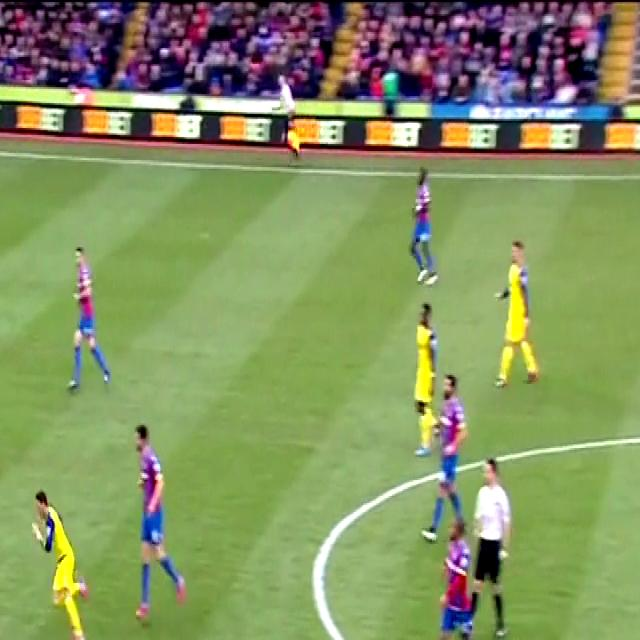referee: (465, 460, 520, 640)
soccer-player: (113, 425, 191, 635), (20, 482, 100, 640), (55, 238, 122, 398), (486, 232, 550, 392), (416, 372, 476, 538), (422, 524, 492, 640), (404, 167, 454, 295), (405, 300, 450, 415)
